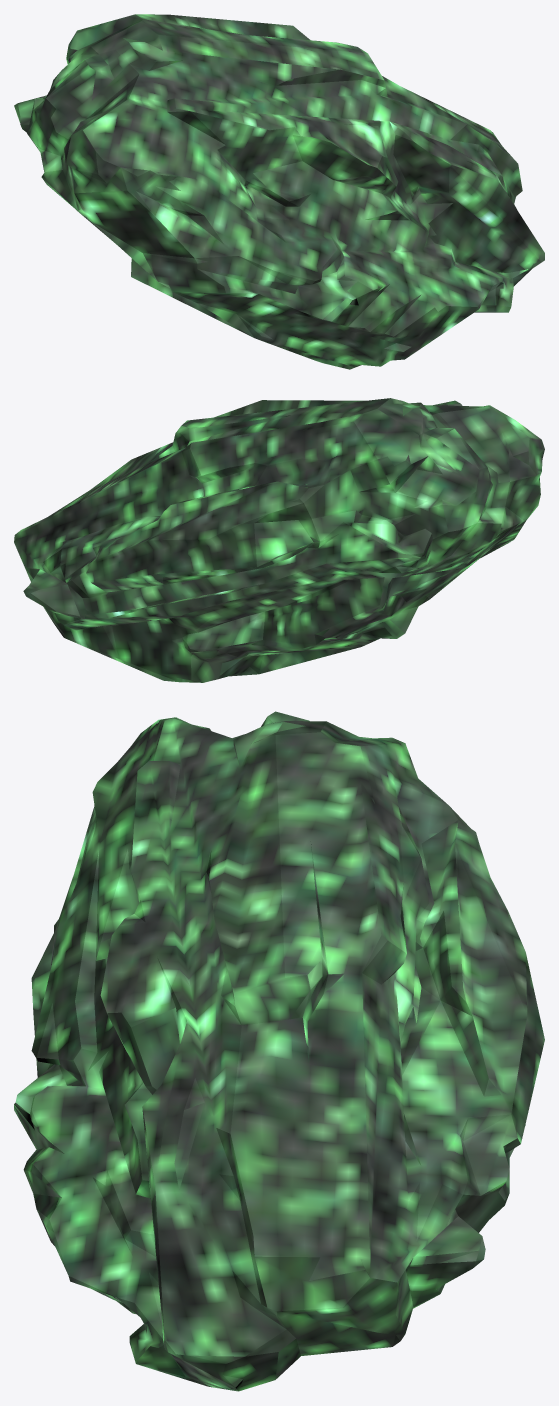
The model's file is meteor_green_flow_shard_03.glb.
The picture shows the model from 3 angles, top to bottom: view 1: azimuth 30°, elevation 25°; view 2: azimuth 150°, elevation 25°; view 3: azimuth 270°, elevation 25°; orthographic projection. The views are drawn at different scales.
Parts seen in each view (by area): view 1: Mesh1.0; view 2: Mesh1.0; view 3: Mesh1.0.
Part boxes in pixels (<box>): Mesh1.0: <box>14,14,544,369</box>; Mesh1.0: <box>14,398,544,682</box>; Mesh1.0: <box>14,711,544,1391</box>.
Size of the model in its own units: 1.89 by 1.23 by 1.3.
Materials: 1 (1 with a texture image).
